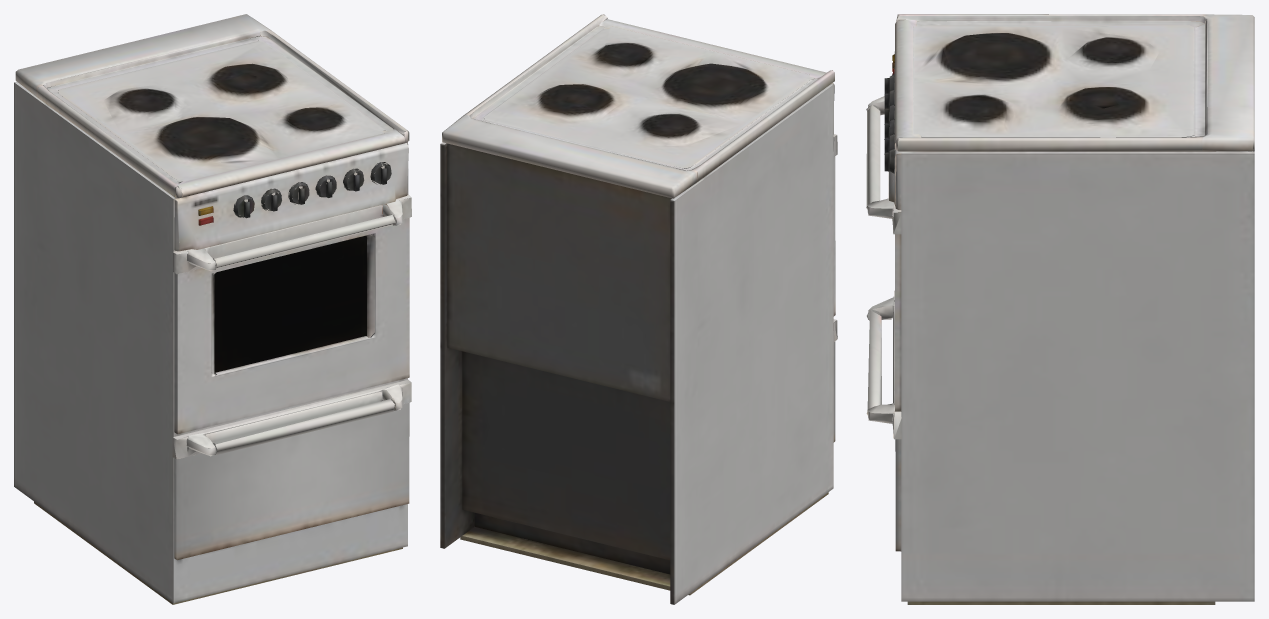
The model's file is electric_stove.glb.
The picture shows the model from 3 angles, left to right: view 1: azimuth 30°, elevation 25°; view 2: azimuth 150°, elevation 25°; view 3: azimuth 270°, elevation 25°; orthographic projection. The views are drawn at different scales.
Parts seen in each view (by area): view 1: stovetop, door_top, handle_bottom_attachment; view 2: stovetop, door_top; view 3: stovetop, door_top, handle_bottom_attachment.
Part boxes in pixels (box(x1,y1,x2,y2)): stovetop: box(14, 14, 409, 604); door_top: box(173, 194, 411, 434); handle_bottom_attachment: box(172, 379, 411, 560); stovetop: box(440, 14, 834, 604); door_top: box(833, 134, 837, 316); stovetop: box(888, 14, 1254, 604); door_top: box(866, 96, 901, 411); handle_bottom_attachment: box(866, 290, 901, 551).
Bounding box in the file's own units: 0.5026 × 0.8586 × 0.6475.
2 materials, 2 textured.
